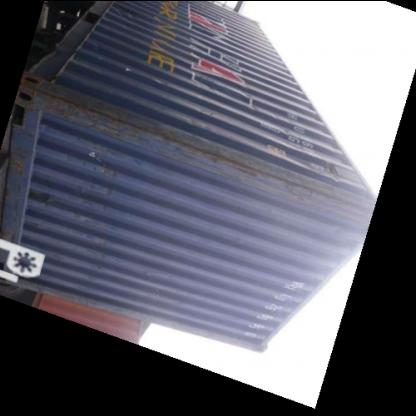Damage: (33, 72, 233, 150), (207, 136, 376, 224)
